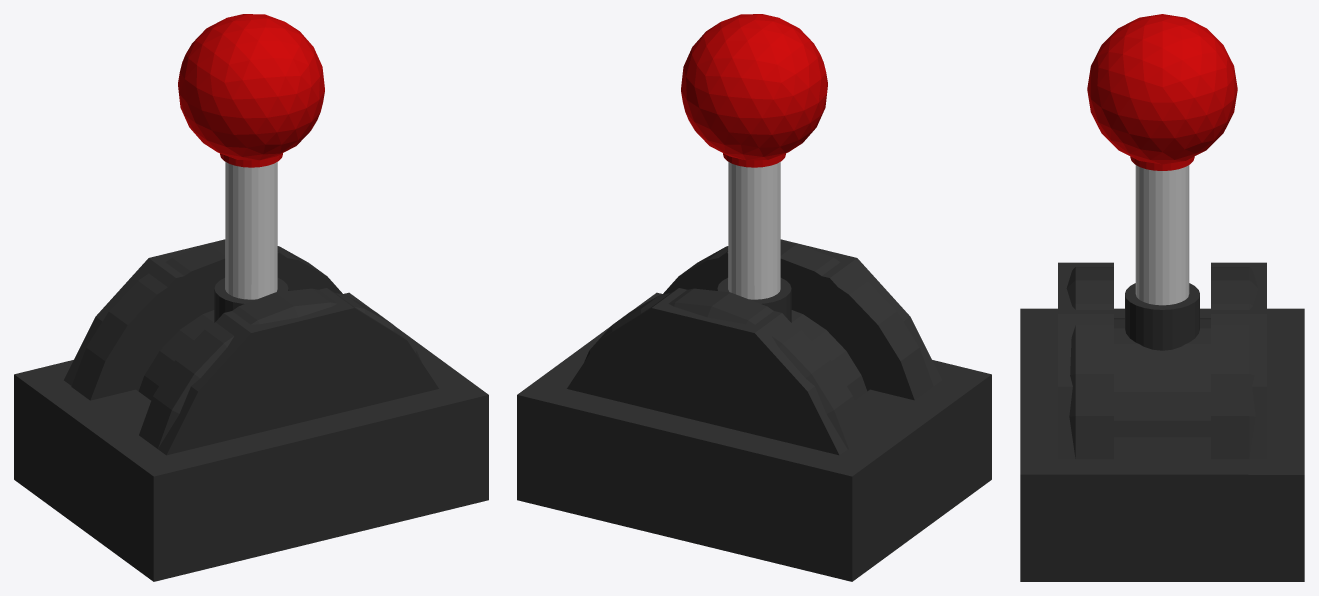
The model's file is LeverShort.fbx.
The picture shows the model from 3 angles, left to right: view 1: azimuth 30°, elevation 25°; view 2: azimuth 150°, elevation 25°; view 3: azimuth 270°, elevation 25°; orthographic projection.
Parts seen in each view (by area): view 1: Base, Base.COL, Stick; view 2: Base.COL, Base, Stick; view 3: Base, Stick, Base.COL.
Boxes of the visible parts, <box> form: Base: <box>29,242,479,579</box>; Base.COL: <box>14,239,488,581</box>; Stick: <box>138,14,324,400</box>; Base.COL: <box>517,239,991,581</box>; Base: <box>531,242,985,579</box>; Stick: <box>681,14,867,400</box>; Base: <box>1031,267,1293,581</box>; Stick: <box>1087,14,1237,437</box>; Base.COL: <box>1020,262,1304,581</box>.
Size of the model in its own units: 0.5224 by 0.7 by 0.3772.
